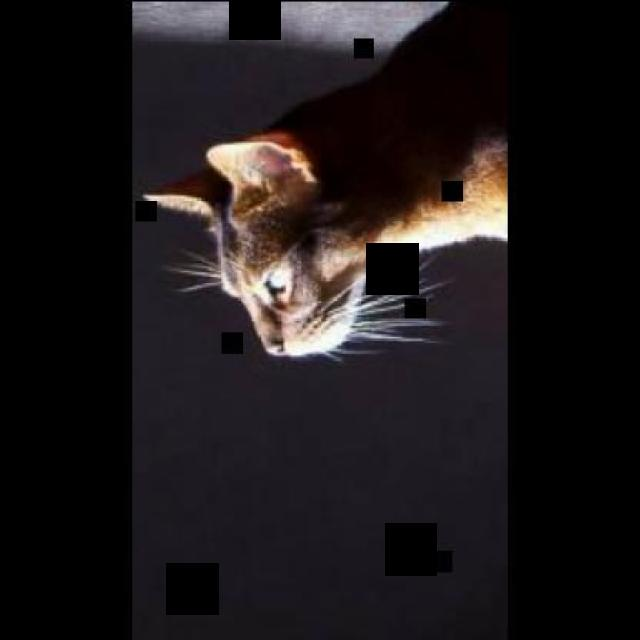unauthorized: (140, 0, 508, 362)
